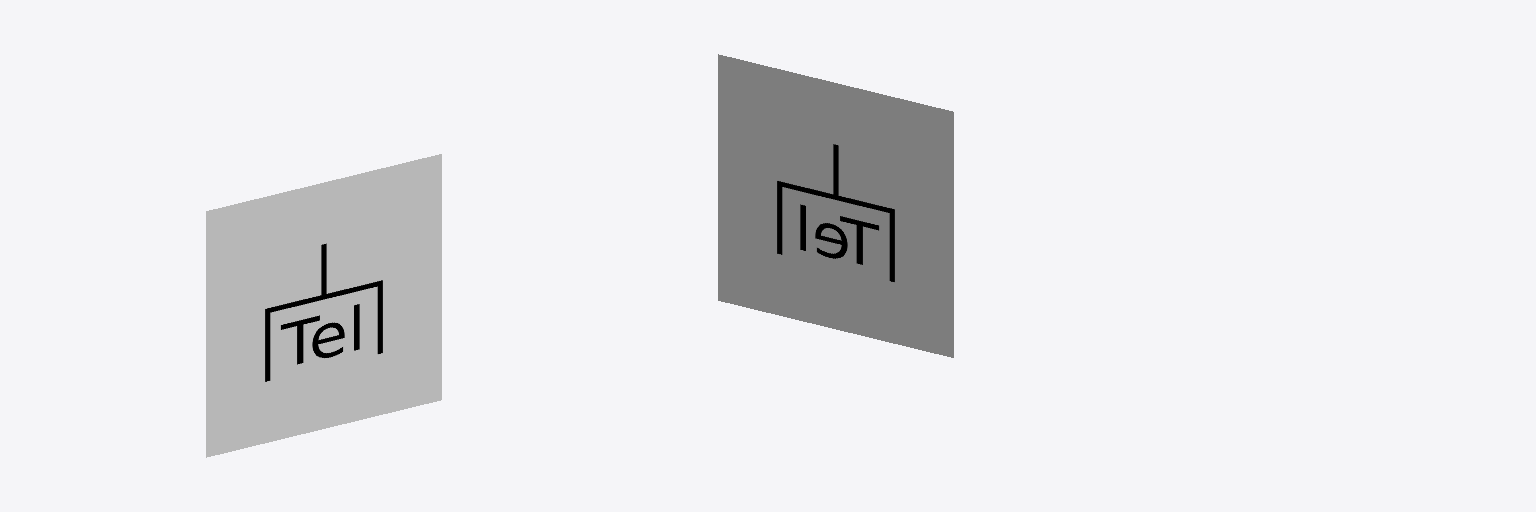
The picture shows the model from 3 angles: view 1: azimuth 30°, elevation 25°; view 2: azimuth 150°, elevation 25°; view 3: azimuth 270°, elevation 25°; orthographic projection.
Visible parts, largest first — view 1: Mesh; view 2: Mesh; view 3: none.
Boxes of the visible parts, x1,y1,x2,y2 form: Mesh: [206, 154, 441, 457]; Mesh: [718, 54, 953, 357].
Bounding box in the file's own units: 50 × 50 × 50.
Materials: 2 (2 with a texture image).